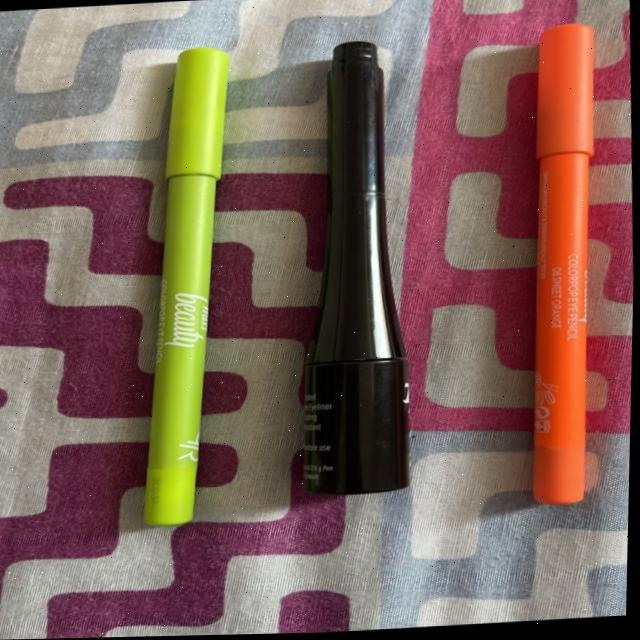eye liner: (276, 33, 446, 514)
lip liner: (99, 26, 272, 543), (486, 16, 640, 525)
